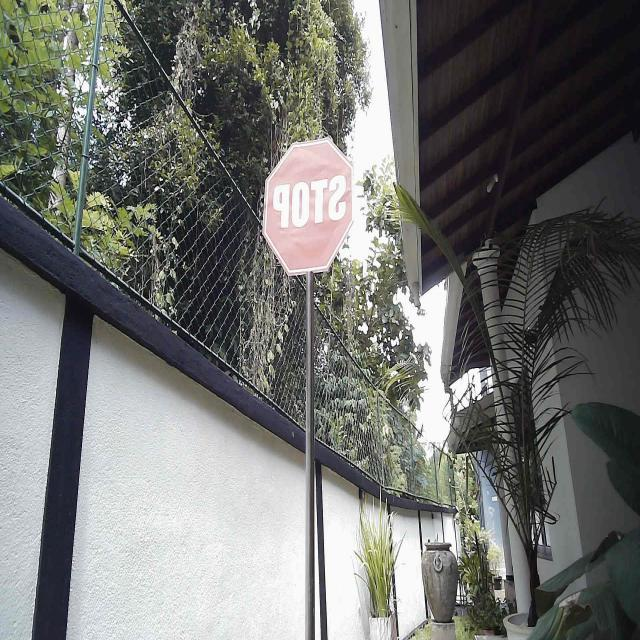stop: (260, 133, 354, 280)
